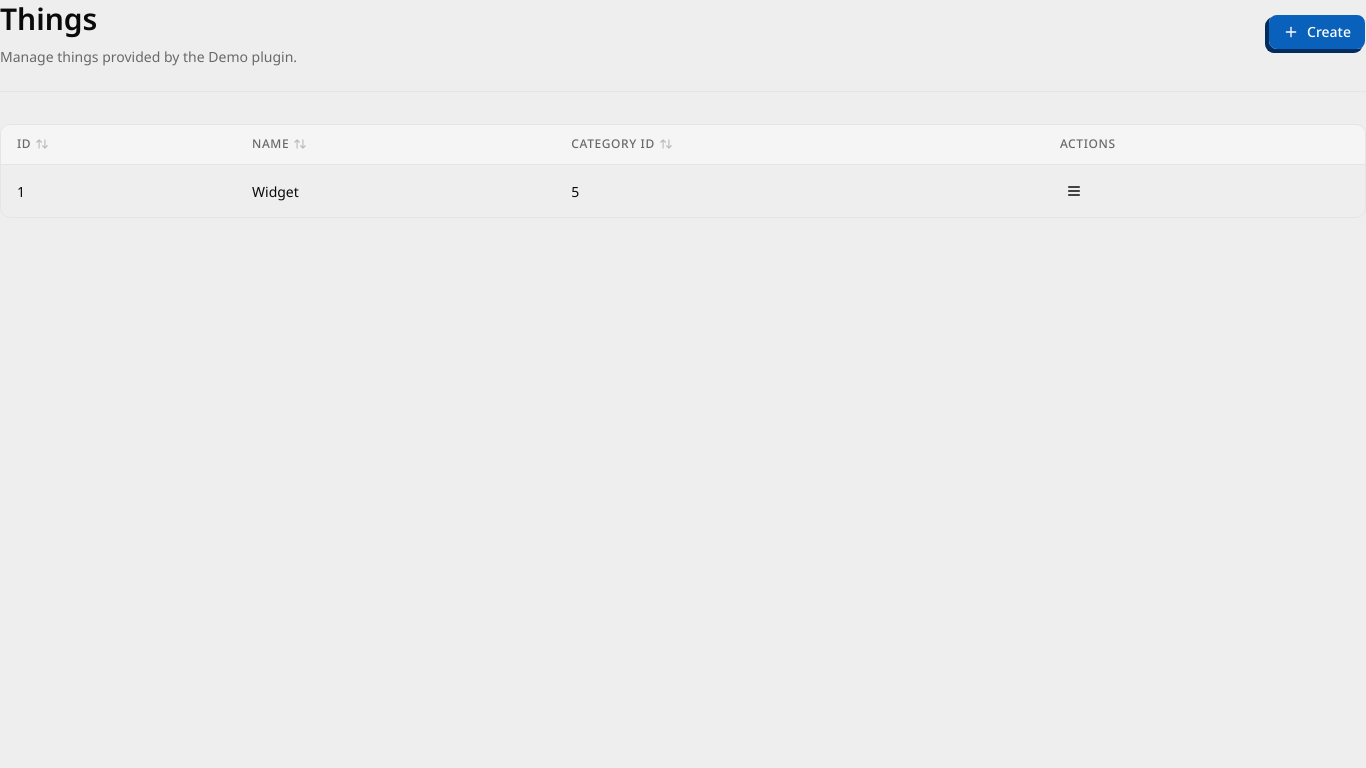
CrudScreen — x-whity-reference FK dropdown › renders the FK field as a dropdown fed from the referenced collection (not a number input)
Expected: the text "Widget" is shown, [236, 164, 555, 217]
# Open the create dialog.
Click the button "Create": (1317, 32) [1268, 14, 1365, 50]
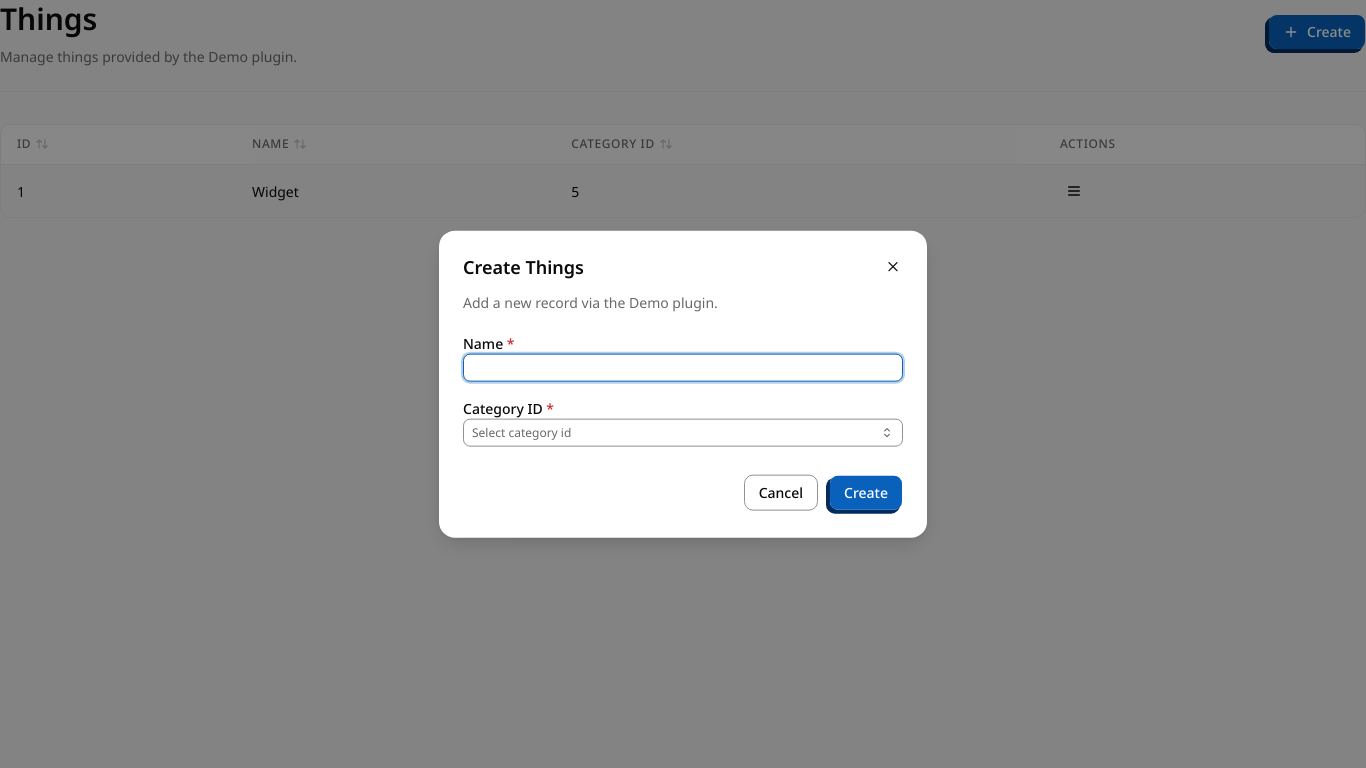
Now the dropdown is shown, box [463, 418, 903, 446]
